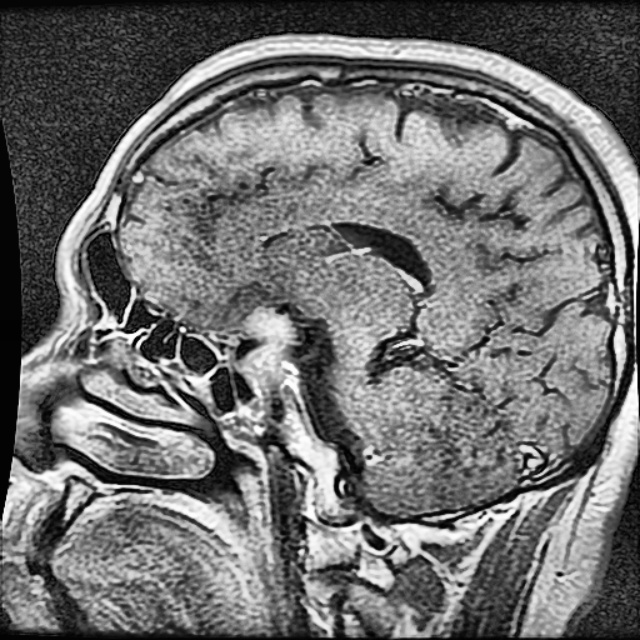Pituitary: (243, 309, 293, 388)
